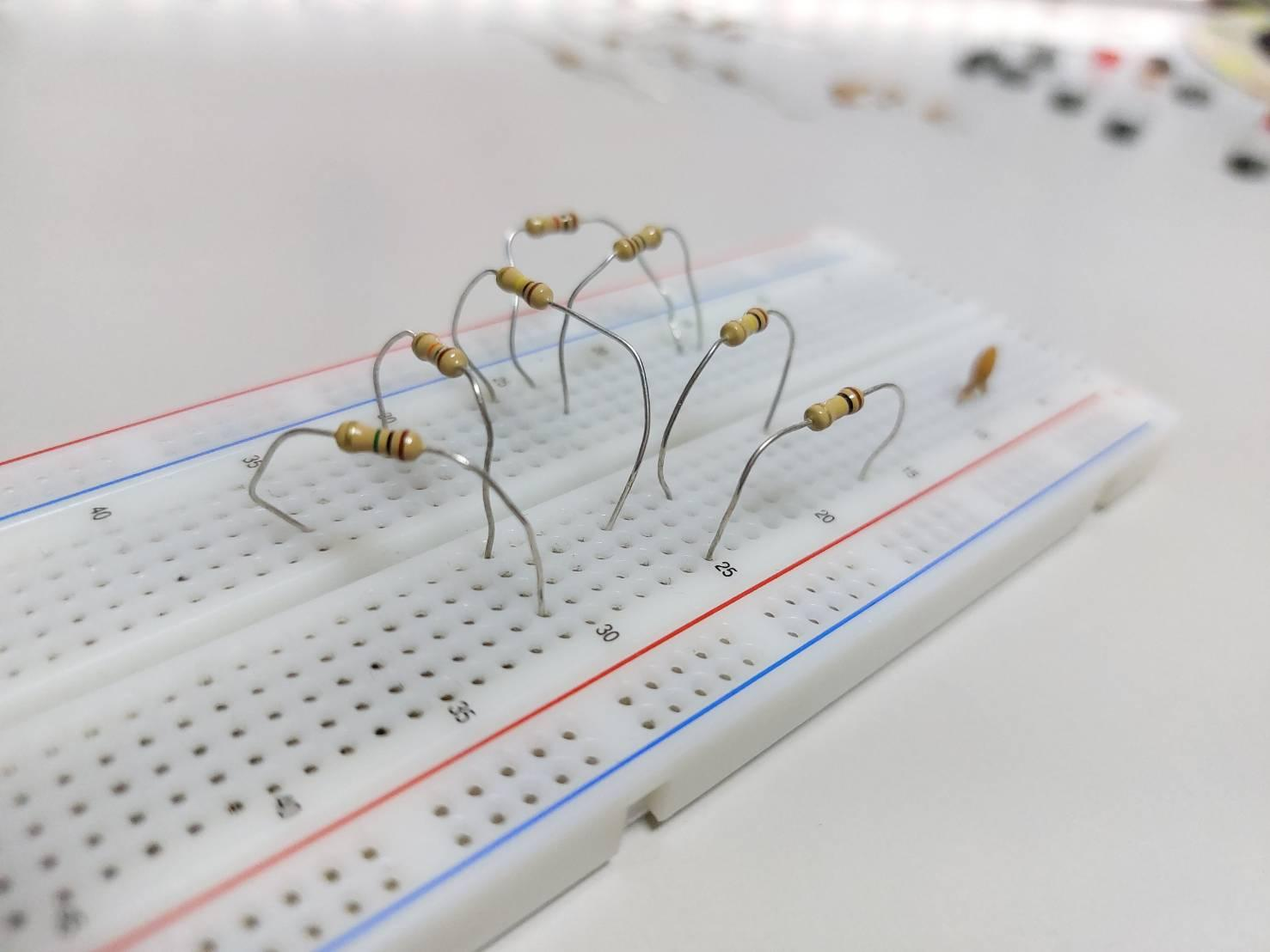resistor: (336, 422, 423, 463), (494, 265, 550, 314), (412, 331, 465, 380), (807, 385, 864, 428), (614, 222, 664, 262), (722, 308, 767, 344), (523, 212, 579, 236)
